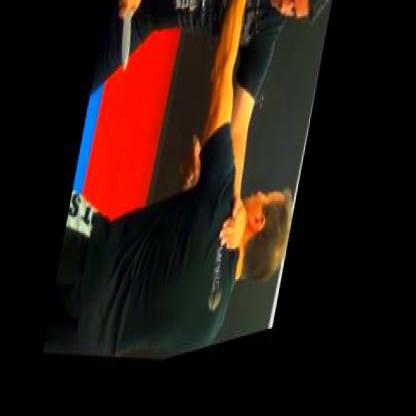knife: (104, 0, 150, 89)
